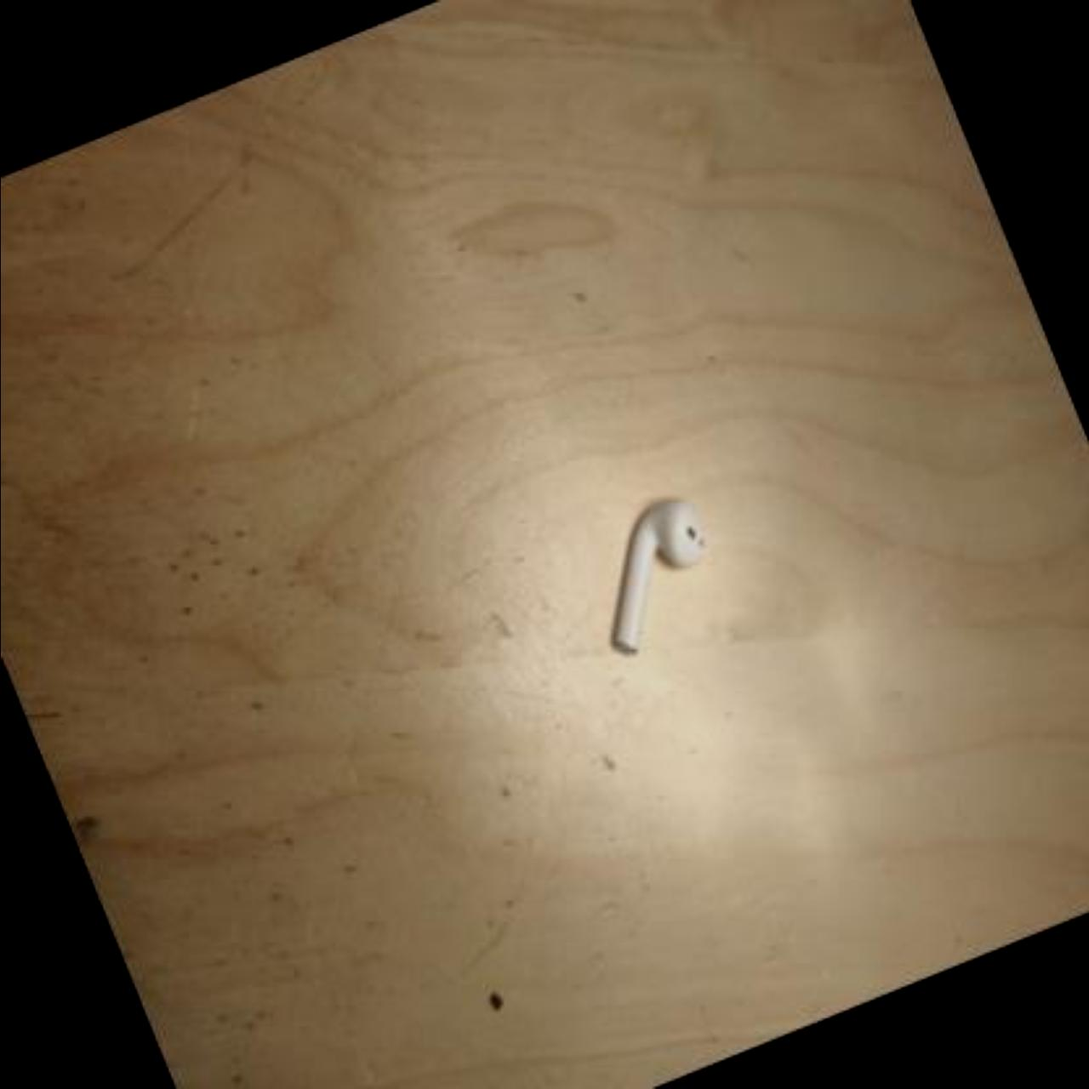Airpods_Units: (576, 488, 736, 650)
